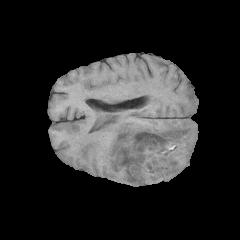glioma: (102, 120, 192, 184)
